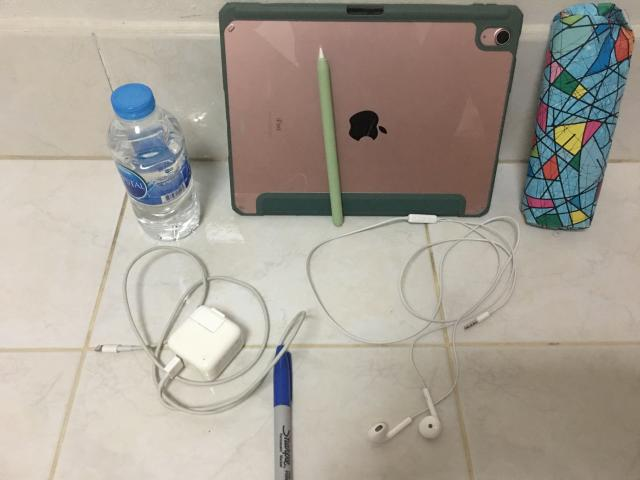Pen: (274, 345, 292, 480)
bottle: (108, 84, 200, 241)
wire: (306, 215, 520, 442), (95, 246, 305, 415)
